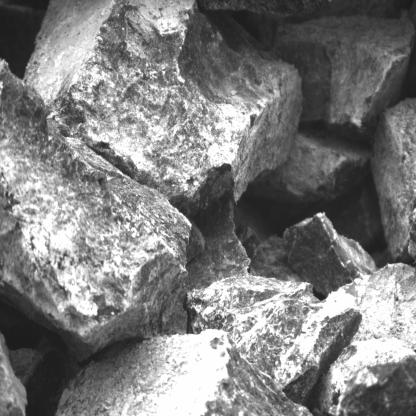stone: (23, 0, 303, 217), (0, 58, 192, 366), (183, 276, 364, 405), (272, 7, 415, 128), (282, 211, 379, 296)
